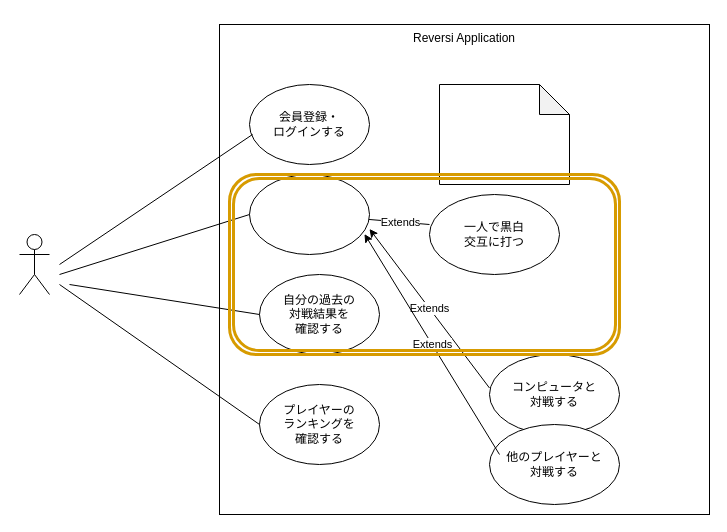
This 727x532 diagram has some shape labels left out. The shapes that lost their labels are listed below. From the top down, each one's centre as x and y in pixels, then its label:
At (504,134): "・対戦を開始する ・盤面を見る ・石を打つ ・勝敗を確認する".
At (309,214): "対戦する".
At (34,264): "Player".
